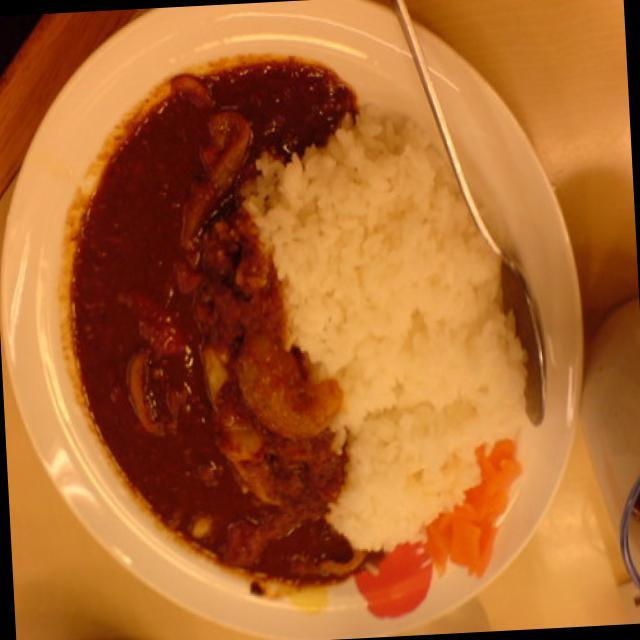Beef Curry: (57, 76, 340, 604)
Rice: (324, 136, 516, 534)
